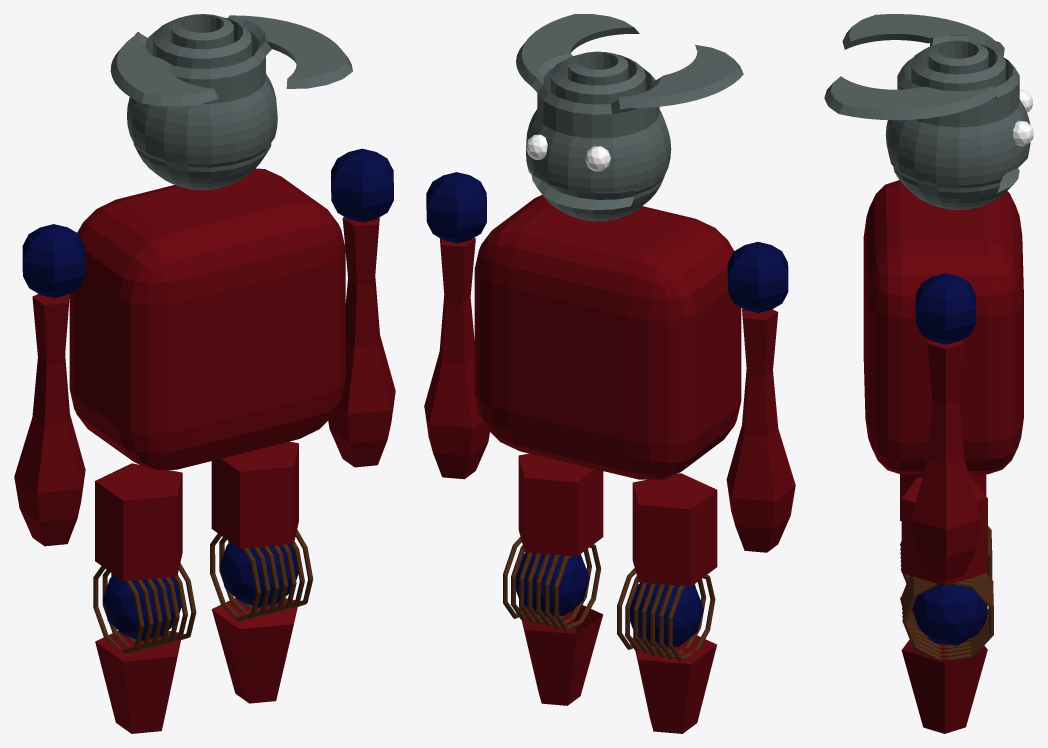
File: enemy.fbx
3 renders of one model, left to right at view 1: azimuth 30°, elevation 25°; view 2: azimuth 150°, elevation 25°; view 3: azimuth 270°, elevation 25°, orthographic. The views are drawn at different scales.
Visible parts, largest first — view 1: Cube, Sphere.002, Cylinder.003, Cylinder.002, Cylinder.001, Cylinder, Sphere.001, Sphere, Icosphere.002, Icosphere.003, Torus.013, Torus.006 (+2 smaller); view 2: Cube, Sphere.002, Cylinder.003, Cylinder.002, Cylinder.001, Cylinder, Sphere.001, Sphere, Icosphere.002, Icosphere.003, Torus.013, Torus.006 (+2 smaller); view 3: Cube, Sphere.002, Cylinder, Cylinder.002, Sphere, Icosphere.003, Torus.007, Torus.008, Torus.009, Cylinder.003, Torus.010, Icosphere.
Part boxes in pixels (<box>): Cube: <box>69,168,345,469</box>; Sphere.002: <box>110,14,352,190</box>; Cylinder.003: <box>95,463,182,733</box>; Cylinder.002: <box>211,441,298,703</box>; Cylinder.001: <box>14,293,85,546</box>; Cylinder: <box>328,217,395,467</box>; Sphere.001: <box>22,224,85,297</box>; Sphere: <box>331,148,393,222</box>; Icosphere.002: <box>103,575,181,640</box>; Icosphere.003: <box>219,542,298,607</box>; Torus.013: <box>210,533,261,621</box>; Torus.006: <box>93,566,144,653</box>; Cube: <box>474,195,741,479</box>; Sphere.002: <box>516,14,743,221</box>; Cylinder.003: <box>632,473,717,733</box>; Cylinder.002: <box>518,453,603,705</box>; Cylinder.001: <box>726,309,795,552</box>; Cylinder: <box>424,238,489,479</box>; Sphere.001: <box>727,242,788,312</box>; Sphere: <box>426,172,486,243</box>; Icosphere.002: <box>630,582,703,647</box>; Icosphere.003: <box>516,552,589,616</box>; Torus.013: <box>553,544,601,630</box>; Torus.006: <box>668,575,715,661</box>; Cube: <box>863,180,1023,474</box>; Sphere.002: <box>824,14,1030,210</box>; Cylinder: <box>911,340,981,580</box>; Cylinder.002: <box>901,477,987,733</box>; Sphere: <box>915,273,976,344</box>; Icosphere.003: <box>913,584,987,645</box>; Torus.007: <box>902,581,993,660</box>; Torus.008: <box>902,578,993,655</box>; Torus.009: <box>902,577,993,651</box>; Cylinder.003: <box>900,474,986,613</box>; Torus.010: <box>902,576,993,647</box>; Icosphere: <box>1013,120,1033,146</box>.
Bounding box in the file's own units: 257 × 444 × 129.
